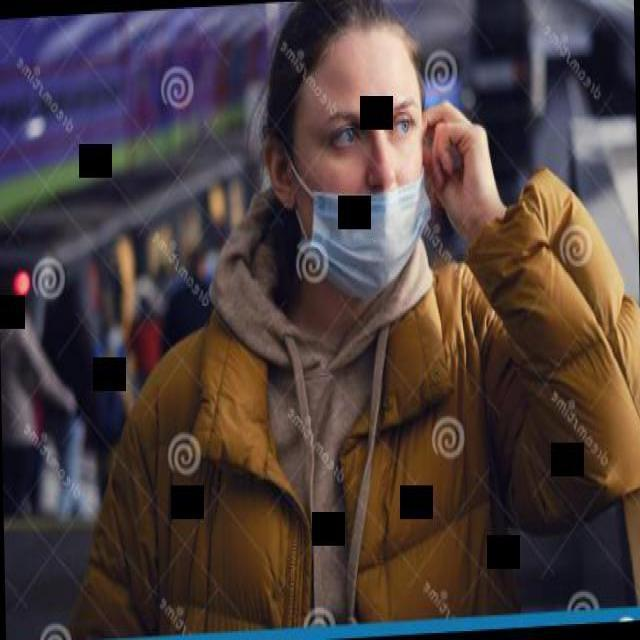hairnet: (296, 162, 429, 300)
